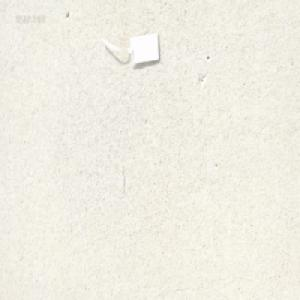LuggageTag: (99, 27, 162, 66)
